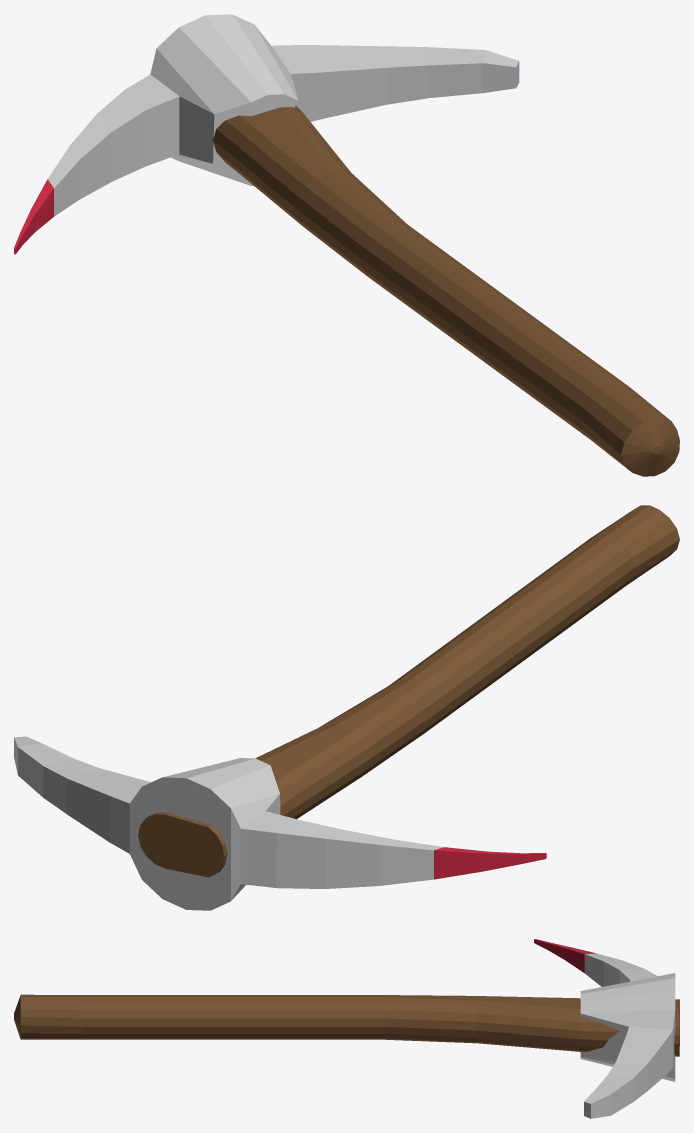
The model's file is Pickaxe.fbx.
3 views of the same model, one above another, from view 1: azimuth 30°, elevation 25°; view 2: azimuth 150°, elevation 25°; view 3: azimuth 270°, elevation 25° (orthographic). The views are drawn at different scales.
Parts seen in each view (by area): view 1: Cylinder.001; view 2: Cylinder.001; view 3: Cylinder.001.
Part boxes in pixels (x1,y1,x2,y2): Cylinder.001: (14,14,679,476); Cylinder.001: (14,505,679,910); Cylinder.001: (14,939,679,1118).
Size of the model in its own units: 139 by 35.33 by 215.
